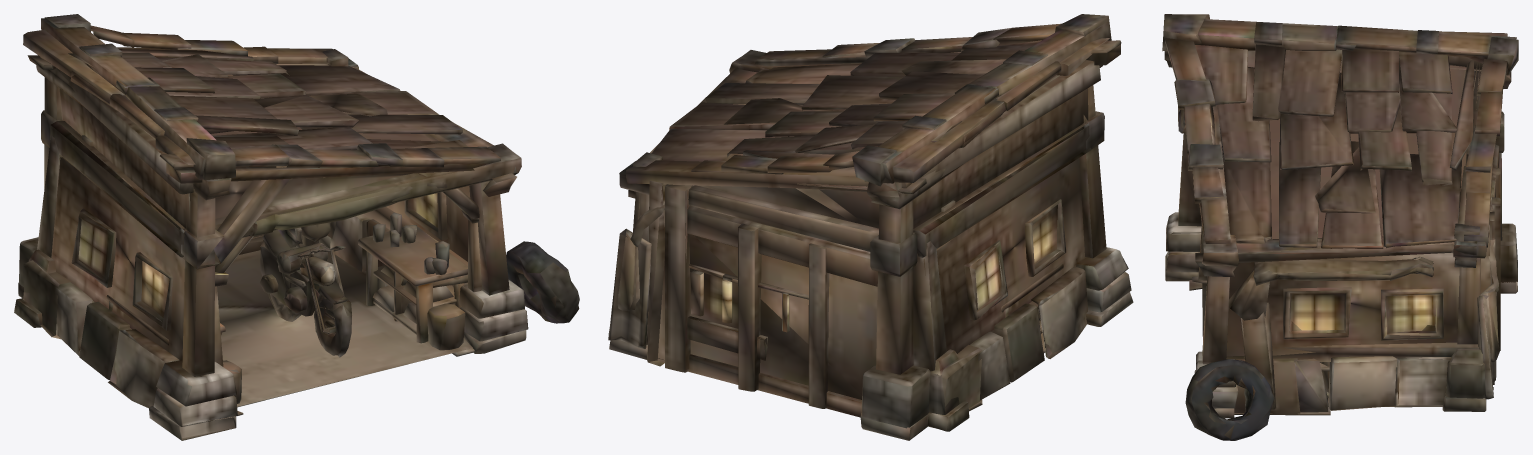
Rendered from shelter_t2_garage.glb.
3 views of the same model, side by side, from view 1: azimuth 30°, elevation 25°; view 2: azimuth 150°, elevation 25°; view 3: azimuth 270°, elevation 25° (orthographic). The views are drawn at different scales.
Size of the model in its own units: 0.2896 by 0.1846 by 0.2314.
1 material, 1 textured.
